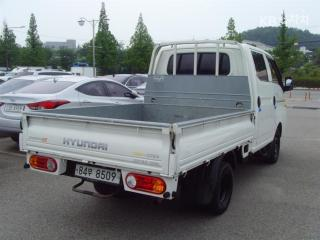0: (105, 170, 111, 181)
4: (83, 166, 88, 176)
5: (101, 169, 106, 180)
8: (95, 169, 101, 179), (78, 166, 84, 175)
9: (110, 170, 117, 182)
plate: (69, 159, 126, 188)
무: (87, 167, 93, 177)
